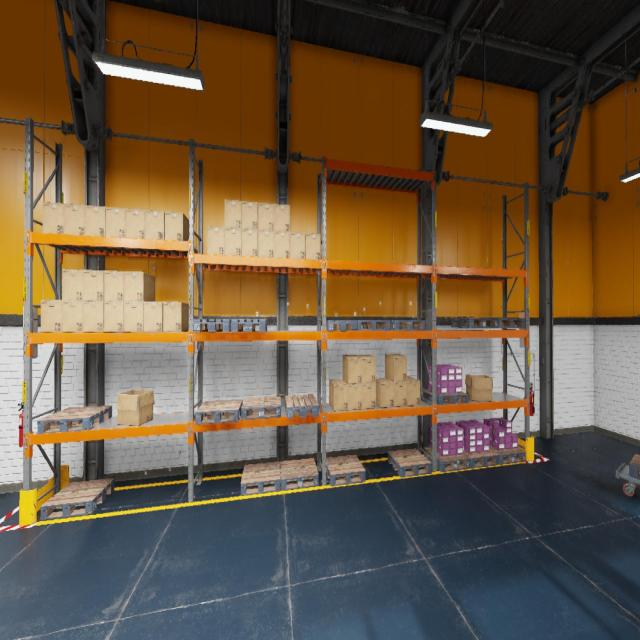box: (115, 390, 154, 426), (124, 271, 155, 301), (465, 375, 493, 401), (163, 302, 188, 331), (40, 300, 62, 332), (164, 212, 188, 240), (64, 203, 85, 235), (43, 202, 64, 234), (83, 301, 104, 332), (62, 301, 83, 332), (83, 270, 104, 301), (62, 269, 83, 300), (85, 205, 106, 236), (104, 301, 124, 332), (104, 270, 124, 301), (386, 378, 407, 407), (329, 379, 348, 411), (106, 207, 126, 237), (385, 354, 407, 381), (356, 354, 376, 383), (124, 302, 143, 332), (144, 302, 163, 331), (126, 209, 145, 238), (376, 378, 394, 408), (343, 355, 362, 383), (146, 210, 164, 239), (208, 226, 225, 255), (241, 201, 258, 229), (225, 199, 241, 228), (241, 229, 258, 256), (274, 204, 290, 232), (258, 202, 274, 230), (258, 230, 274, 257), (274, 231, 290, 258), (225, 228, 241, 255), (305, 233, 321, 259), (407, 376, 420, 406), (290, 232, 305, 258), (348, 383, 362, 410), (362, 383, 376, 409)
pallets: (40, 478, 114, 520), (37, 406, 112, 434), (241, 462, 280, 496), (326, 454, 366, 486), (387, 449, 432, 477), (280, 458, 318, 490), (424, 447, 470, 472), (195, 400, 242, 424), (241, 396, 281, 419), (285, 394, 319, 418), (490, 445, 526, 465), (423, 388, 468, 404), (462, 450, 498, 468), (193, 319, 231, 332), (231, 319, 267, 332), (451, 318, 497, 328), (358, 320, 390, 331), (327, 320, 358, 331), (391, 320, 425, 330), (488, 318, 524, 327), (629, 454, 640, 479)
